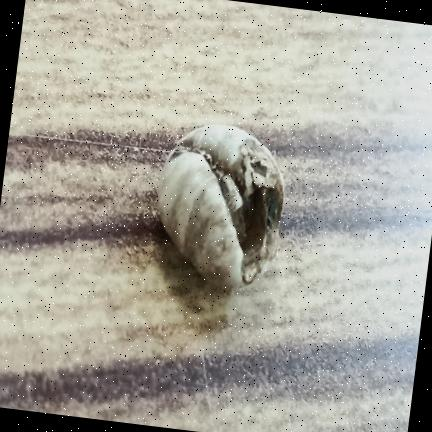broken: (157, 124, 283, 287)
